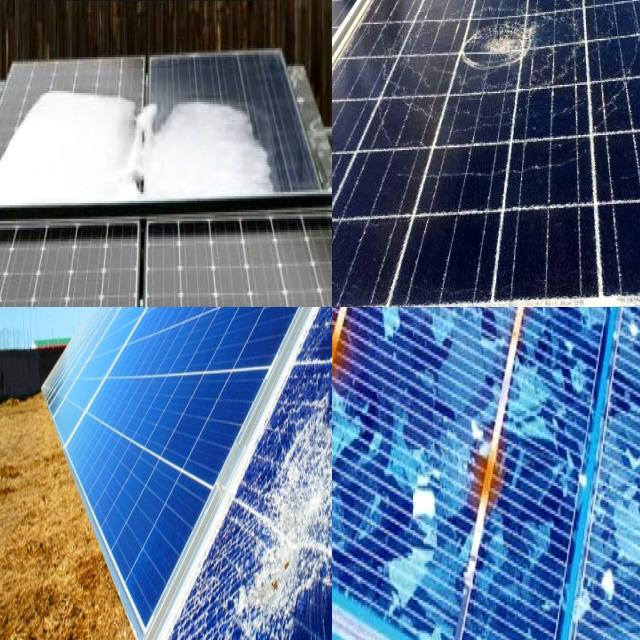hotspot: (190, 388, 332, 640), (457, 0, 565, 123)
panel: (124, 82, 169, 155), (66, 69, 120, 122), (217, 77, 262, 140), (176, 80, 208, 160), (18, 77, 58, 140), (0, 119, 22, 214), (213, 264, 260, 307), (122, 163, 156, 221), (249, 146, 286, 195), (76, 282, 141, 307)
shadow: (467, 384, 517, 532), (498, 307, 567, 361), (332, 307, 360, 420)
